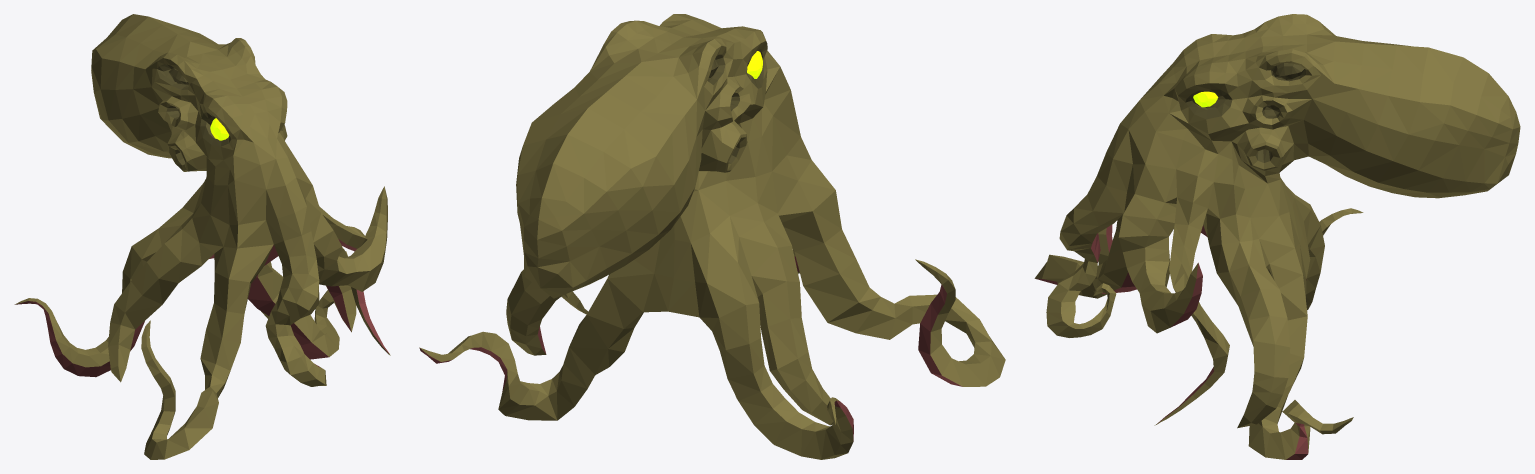
The model's file is Krakren_Table_004.fbx.
3 views of the same model, side by side, from view 1: azimuth 30°, elevation 25°; view 2: azimuth 150°, elevation 25°; view 3: azimuth 270°, elevation 25° (orthographic). The views are drawn at different scales.
Visible parts, largest first — view 1: Krakren_Table_004; view 2: Krakren_Table_004; view 3: Krakren_Table_004.
Part boxes in pixels (x1,y1,x2,y2): Krakren_Table_004: (14, 14, 390, 459); Krakren_Table_004: (419, 14, 1005, 459); Krakren_Table_004: (1034, 14, 1520, 459).
Size of the model in its own units: 2.35 by 2.26 by 2.7.
